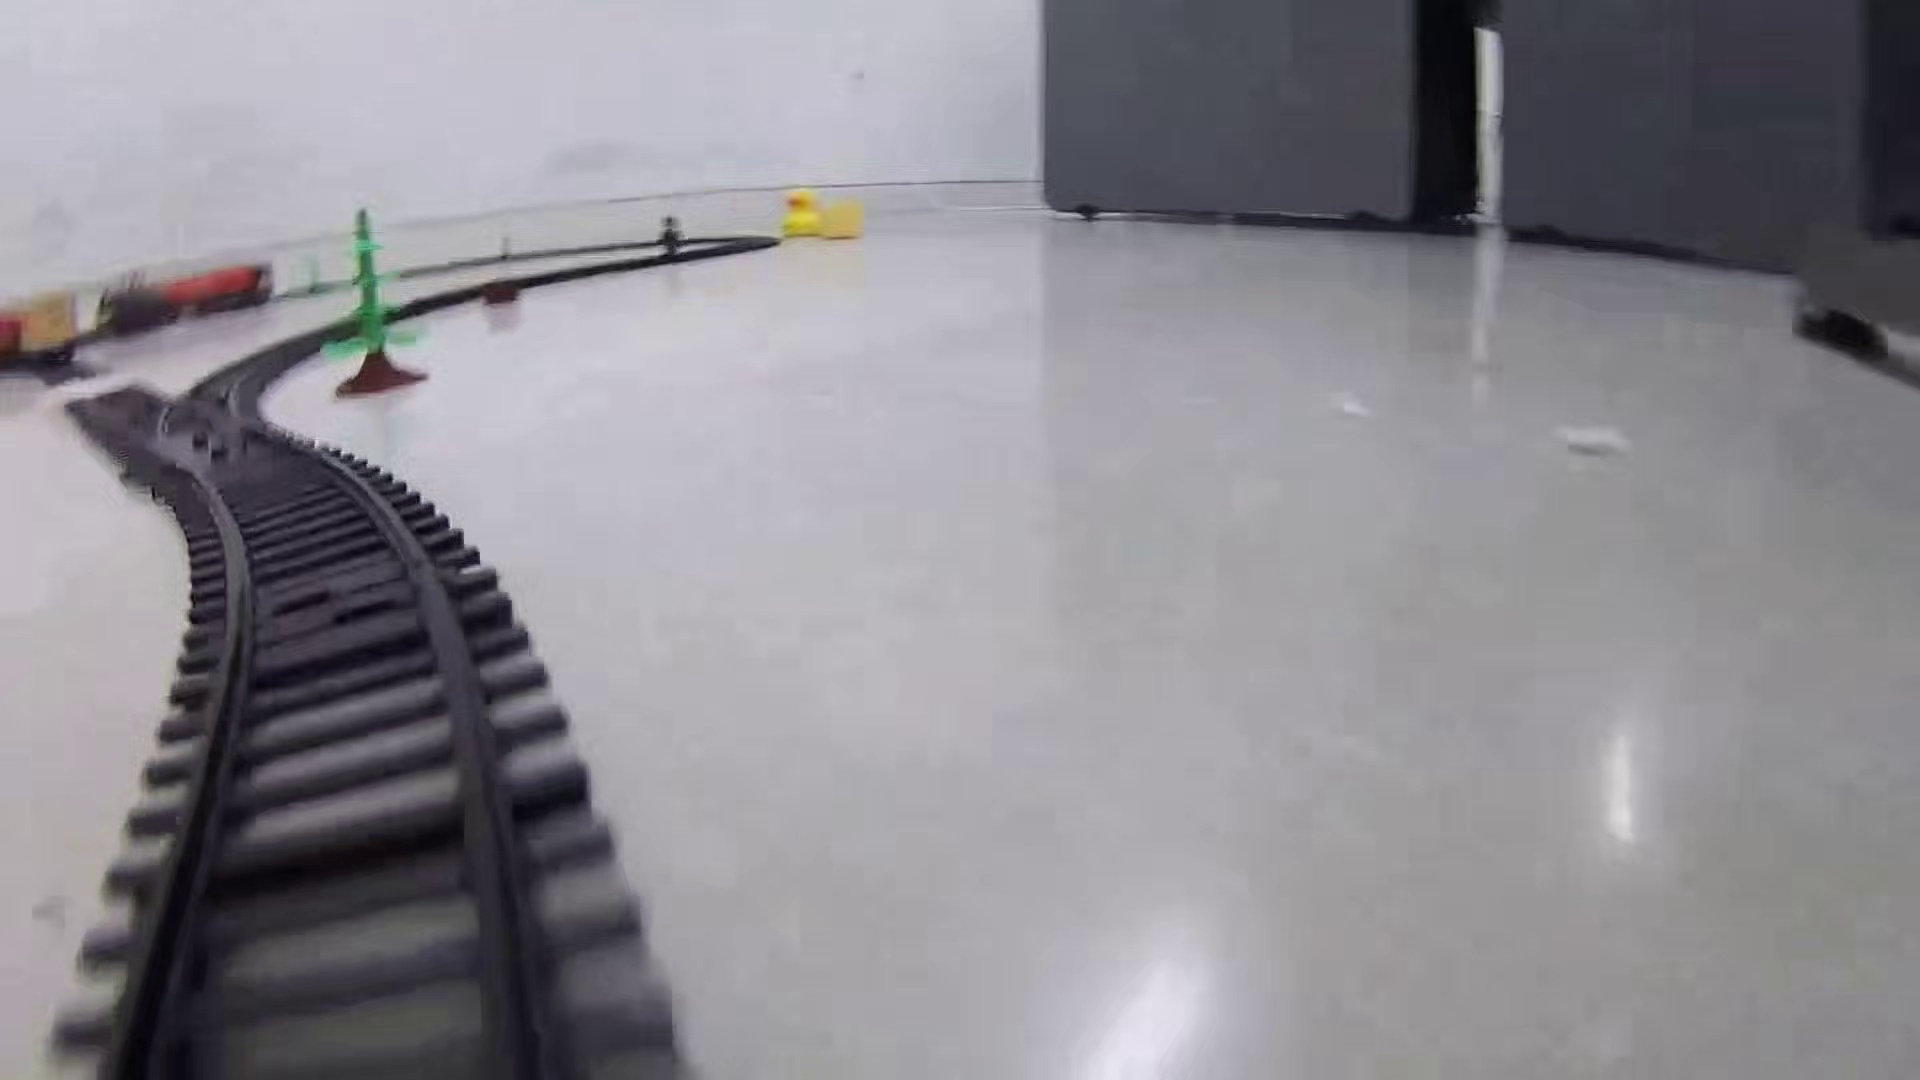box: (479, 275, 523, 309)
people: (656, 212, 686, 267)
tree: (322, 206, 430, 402)
web: (36, 362, 142, 409)
